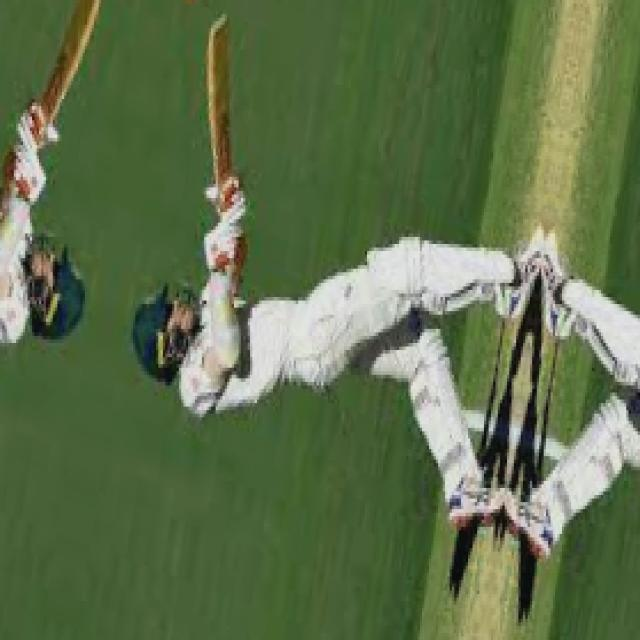toe: (205, 11, 235, 43)
